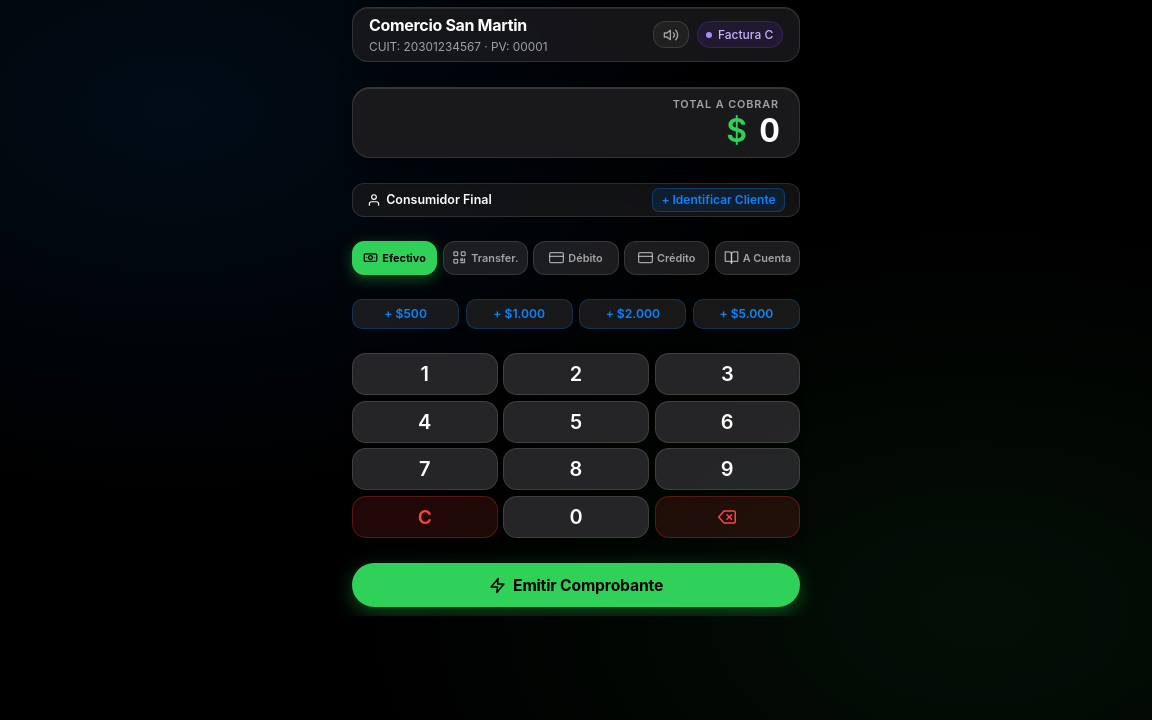
Test: PosTerminal Component › permite ingresar montos mediante los botones de la botonera
The image size is (1152, 720).
Click the button "2" at coordinates (576, 374), box [503,353,649,395]
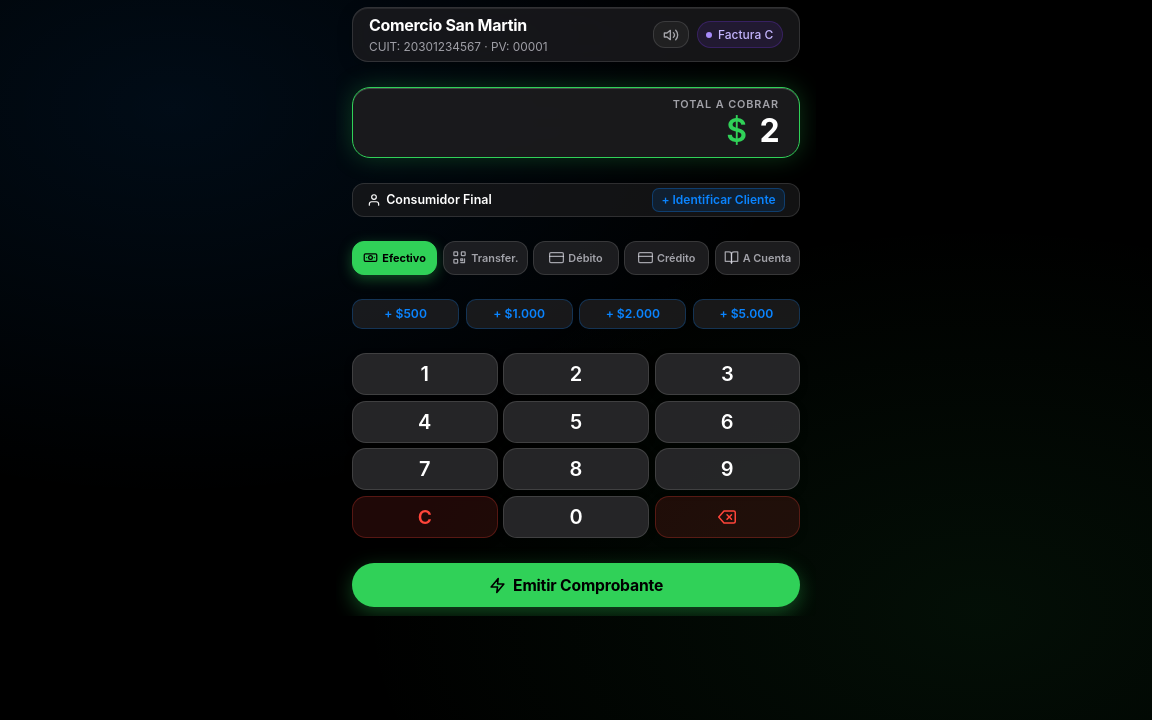
Click the button "5" at coordinates (576, 422), box [503,400,649,442]
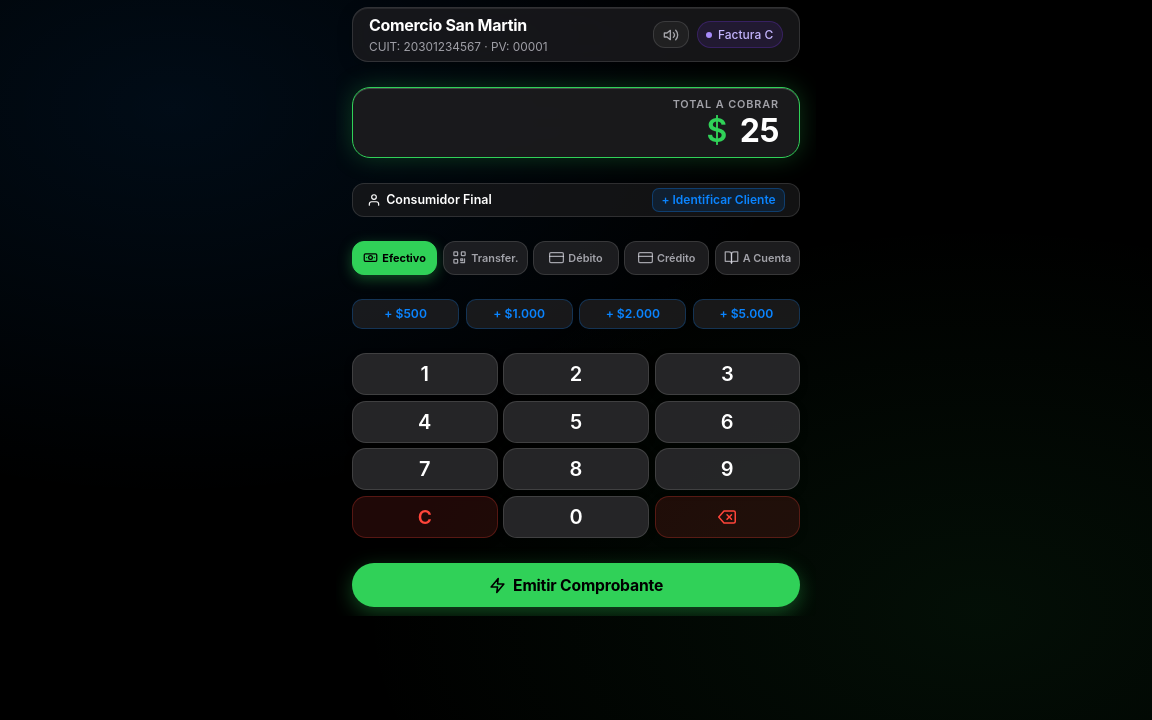
Click the button "0" at coordinates (576, 517), box [503,496,649,538]
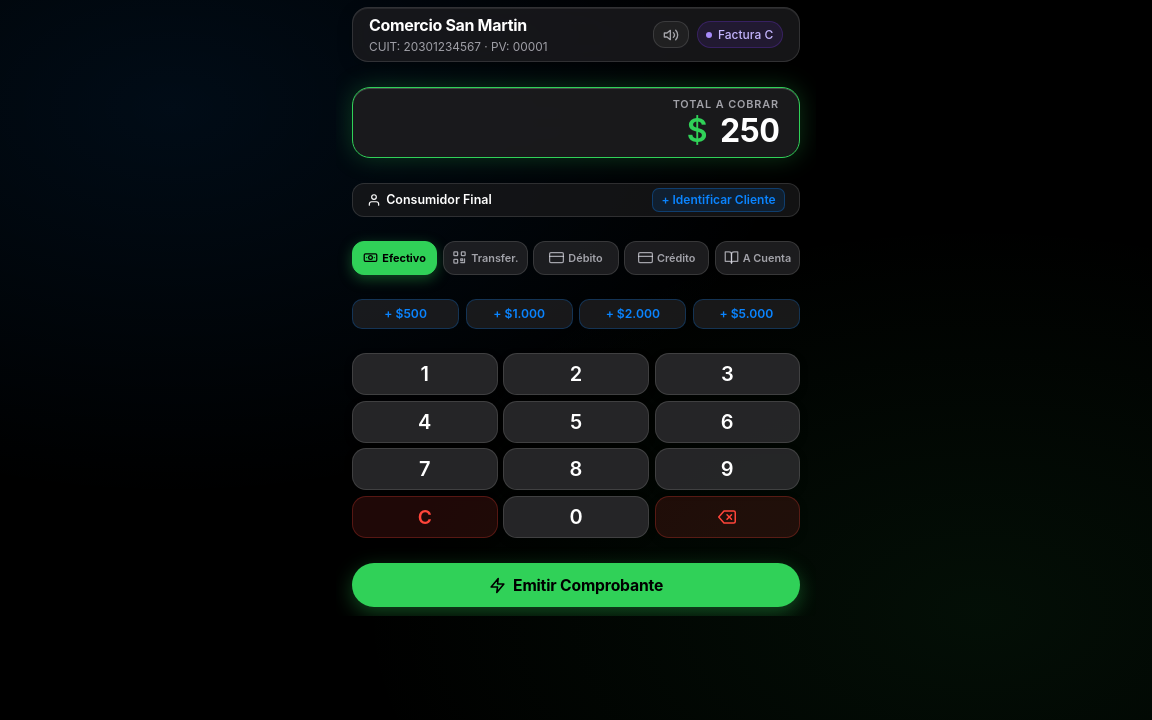
Click the button "0" at coordinates (576, 517), box [503,496,649,538]
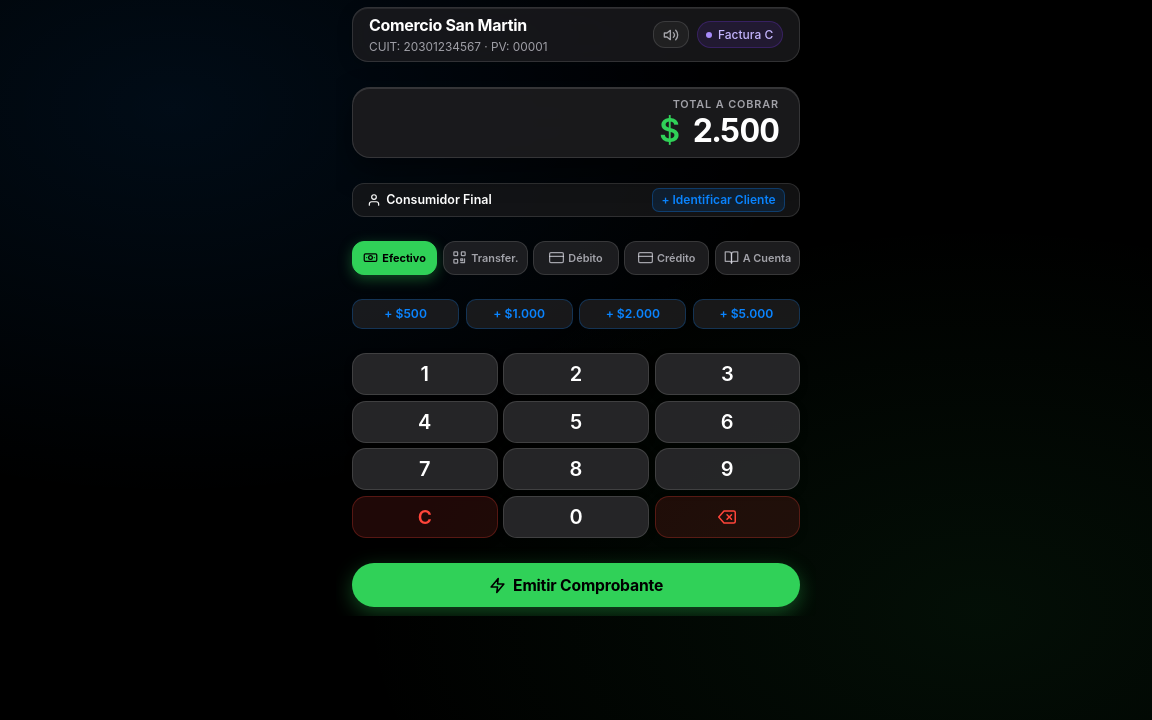
Expected: the element with test id "pos-amount-display" shows "2.500", [692,111,779,150]
